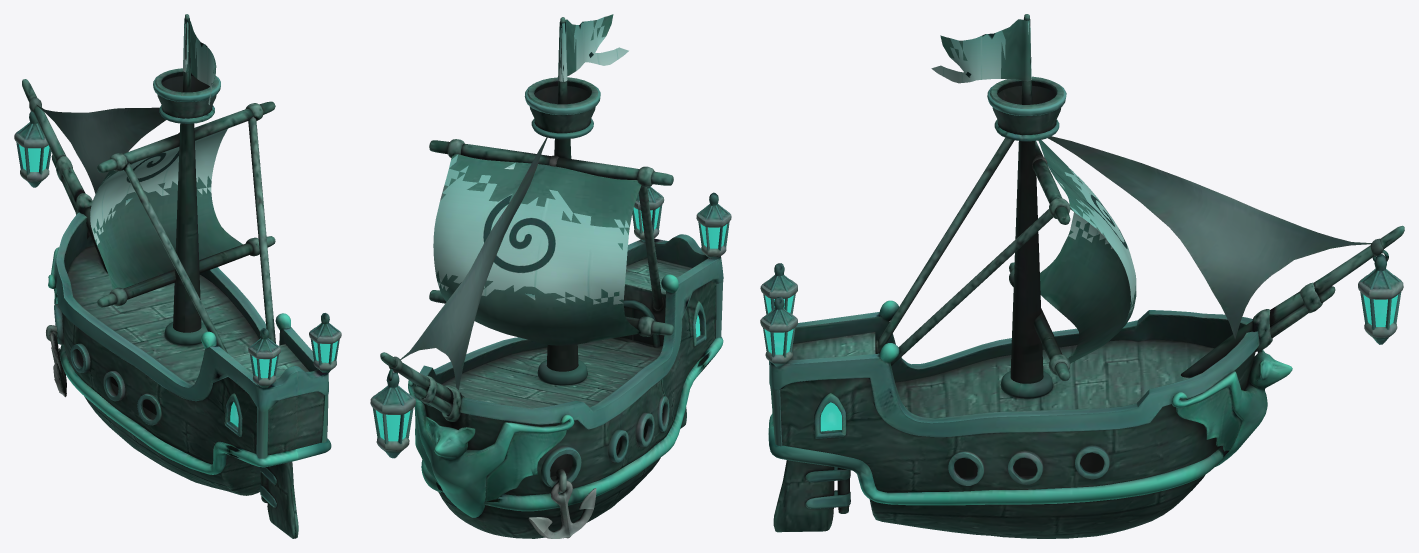
Rendered from wraith.glb.
3 renders of one model, left to right at view 1: azimuth 30°, elevation 25°; view 2: azimuth 150°, elevation 25°; view 3: azimuth 270°, elevation 25°, orthographic. The views are drawn at different scales.
Visible parts, largest first — view 1: boat_main_0, boat_light_0; view 2: boat_main_0, boat_light_0; view 3: boat_main_0, boat_light_0.
Part boxes in pixels (x1,y1,x2,y2): boat_main_0: [14, 14, 341, 538]; boat_light_0: [19, 144, 337, 426]; boat_main_0: [370, 14, 731, 538]; boat_light_0: [376, 207, 727, 441]; boat_main_0: [760, 14, 1404, 538]; boat_light_0: [764, 295, 1397, 431].
Size of the model in its own units: 12.28 by 26.54 by 30.
Materials: 2 (2 with a texture image).
